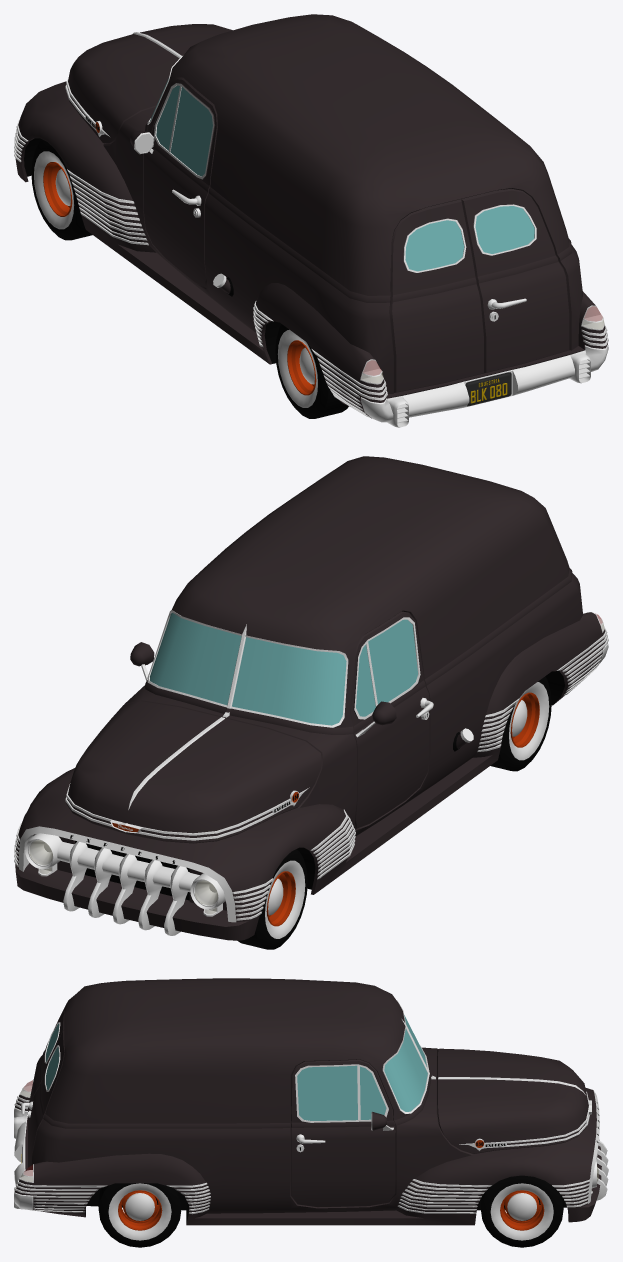
File: Bronco Express.glb
3 renders of one model, top to bottom at view 1: azimuth 30°, elevation 25°; view 2: azimuth 150°, elevation 25°; view 3: azimuth 270°, elevation 25°, orthographic. The views are drawn at different scales.
Visible parts, largest first — view 1: Bronco Express, Wheels BL, Wheels FL; view 2: Bronco Express, Wheels FL, Wheels BL; view 3: Bronco Express, Wheels FR, Wheels BR.
Part boxes in pixels (box(x1,y1,x2,y2)): Bronco Express: box(14, 14, 608, 427); Wheels BL: box(275, 324, 348, 418); Wheels FL: box(31, 140, 92, 240); Bronco Express: box(14, 456, 608, 940); Wheels FL: box(237, 849, 307, 949); Wheels BL: box(490, 676, 551, 771); Bronco Express: box(14, 978, 608, 1225); Wheels FR: box(481, 1175, 563, 1247); Wheels BR: box(98, 1183, 181, 1247).
Bounding box in the file's own units: 6.15 × 5.77 × 15.4.
